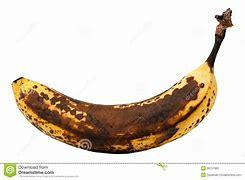banana: (8, 56, 223, 161)
